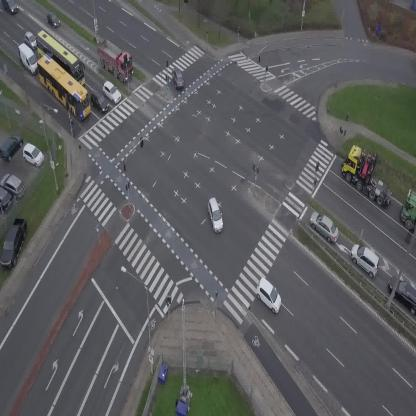bicycle: (68, 118, 75, 134)
bus: (29, 51, 100, 123), (26, 28, 94, 90)
car: (345, 240, 387, 280), (249, 276, 288, 315), (304, 209, 345, 246), (205, 196, 225, 234), (86, 88, 114, 115), (99, 80, 125, 105), (21, 30, 41, 51), (43, 10, 62, 30), (170, 66, 185, 89), (1, 0, 18, 15)
lorry: (334, 138, 398, 218), (90, 35, 142, 85), (12, 41, 43, 77), (400, 189, 416, 232)
